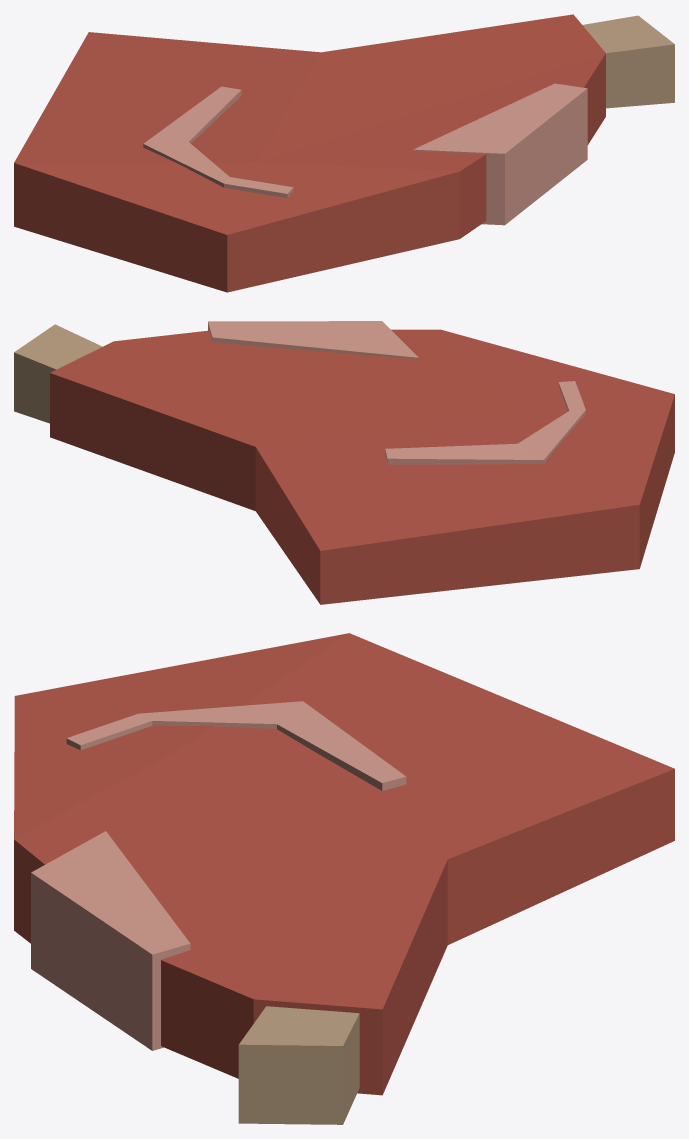
Rendered from tomahawkCut.fbx.
3 renders of one model, top to bottom at view 1: azimuth 30°, elevation 25°; view 2: azimuth 150°, elevation 25°; view 3: azimuth 270°, elevation 25°, orthographic. The views are drawn at different scales.
Visible parts, largest first — view 1: tomahawkCut; view 2: tomahawkCut; view 3: tomahawkCut.
Boxes of the visible parts, x1,y1,x2,y2 form: tomahawkCut: (14, 14, 674, 292); tomahawkCut: (14, 321, 674, 604); tomahawkCut: (14, 633, 674, 1124).
Size of the model in its own units: 31.26 by 3.52 by 21.33.
1 material, 1 textured.
